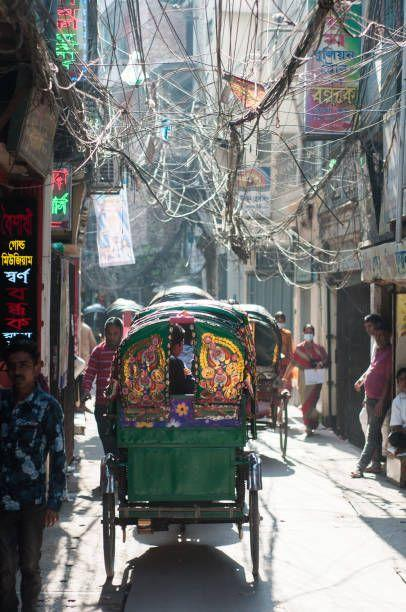Rickshaw: (101, 301, 261, 576), (239, 304, 288, 456), (150, 285, 212, 304)
